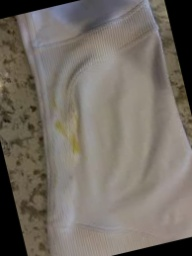mustard: (55, 120, 81, 157), (44, 89, 57, 113)
